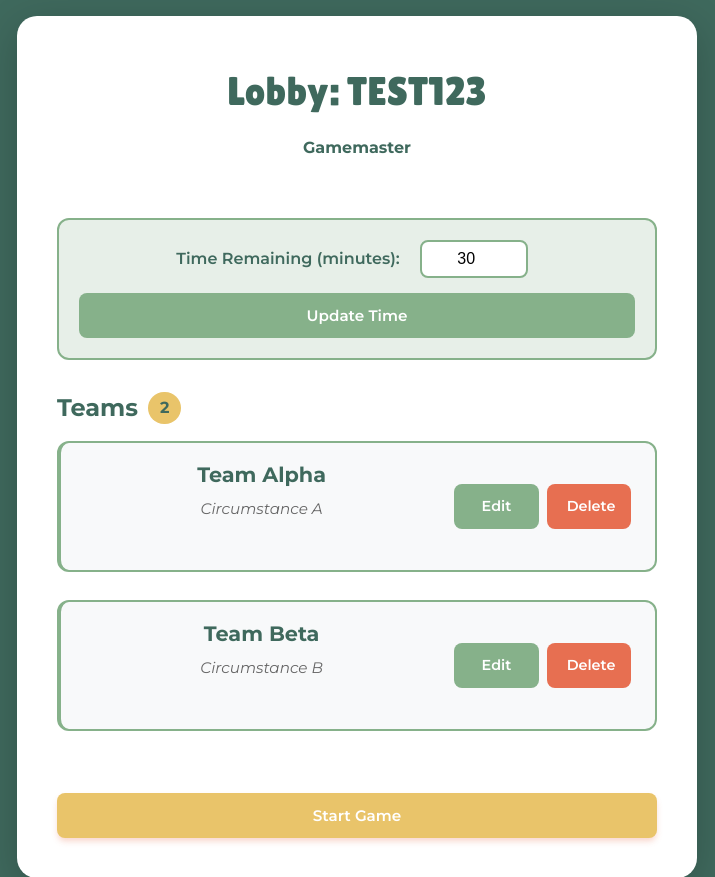
Scenario: Lobby Component › Edge Cases and Error Handling › handles empty time input on blur
This screenshot has width=715, height=877.
Step 1. Clear the number field showing "30" → (474, 259), box [420,240,528,278]
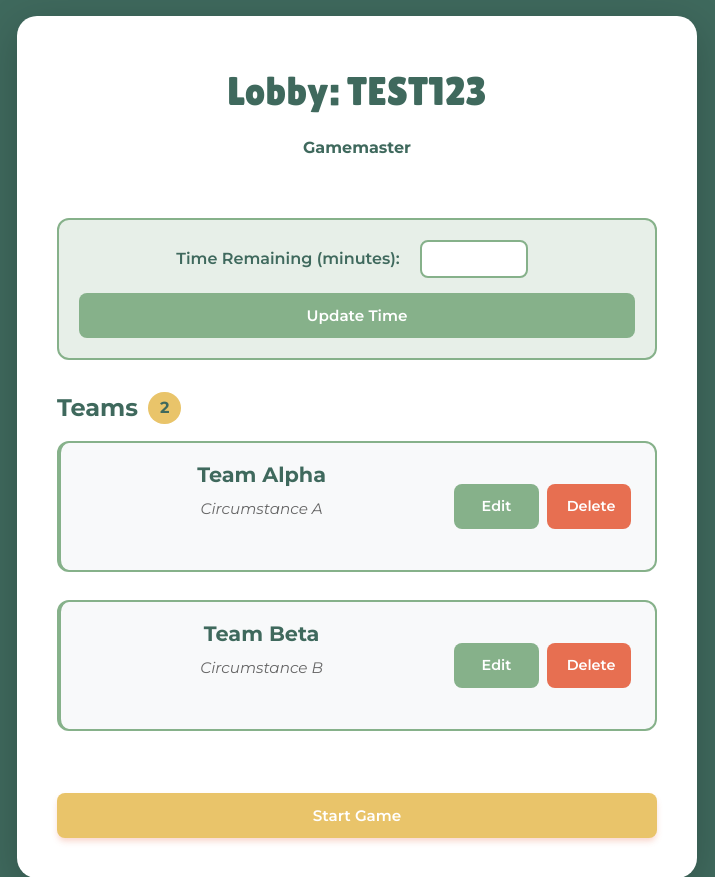
Step 2. Leave the number field showing "30", box [420,240,528,278]
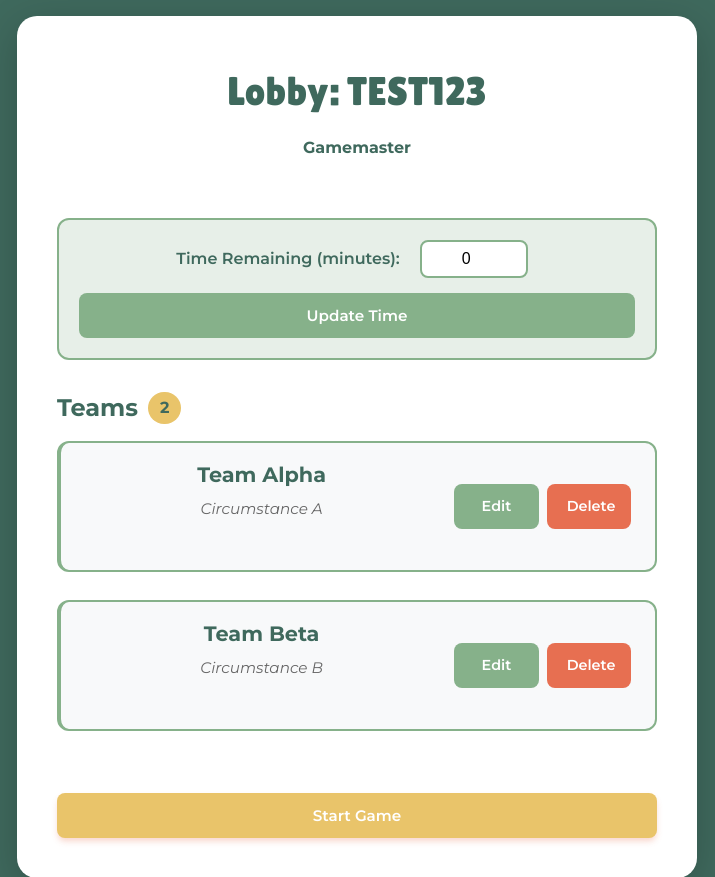
Expected: the number field showing "30" holds "0", [420,240,528,278]
